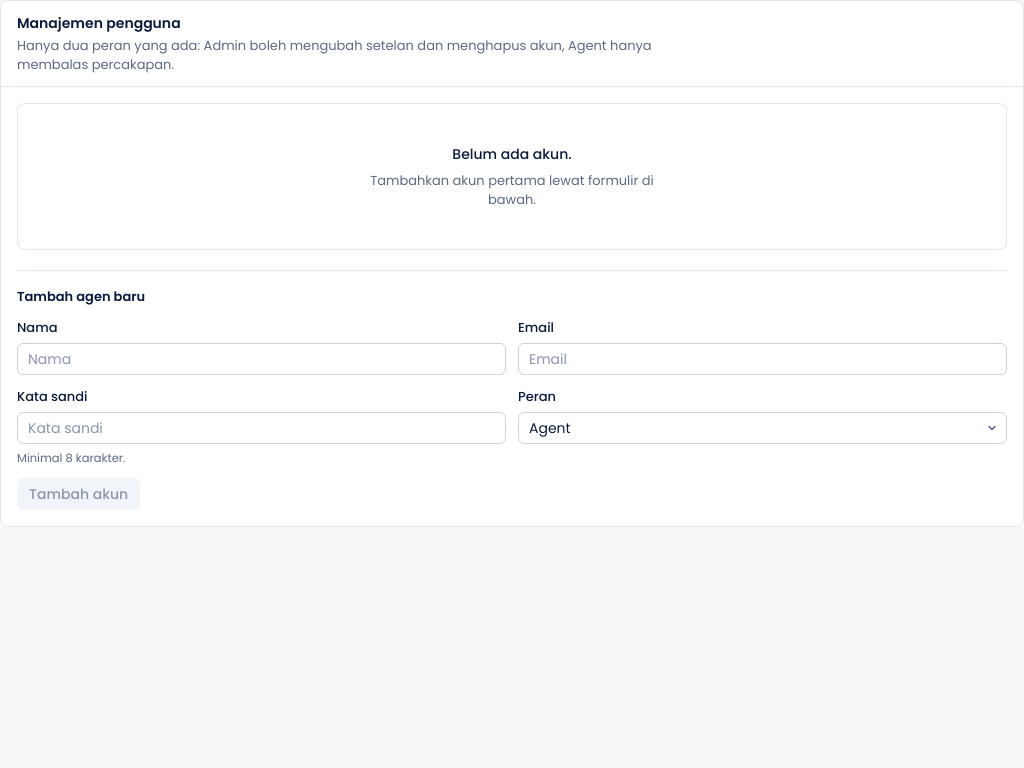
it: UserManagementSection › shows a server error and does not clear the form when creating an account fails
The width and height of the screenshot is (1024, 768).
Type "Agen Baru" into the field labelled "Nama".
click(262, 359); type("Agen Baru")  # box [17,343,506,375]
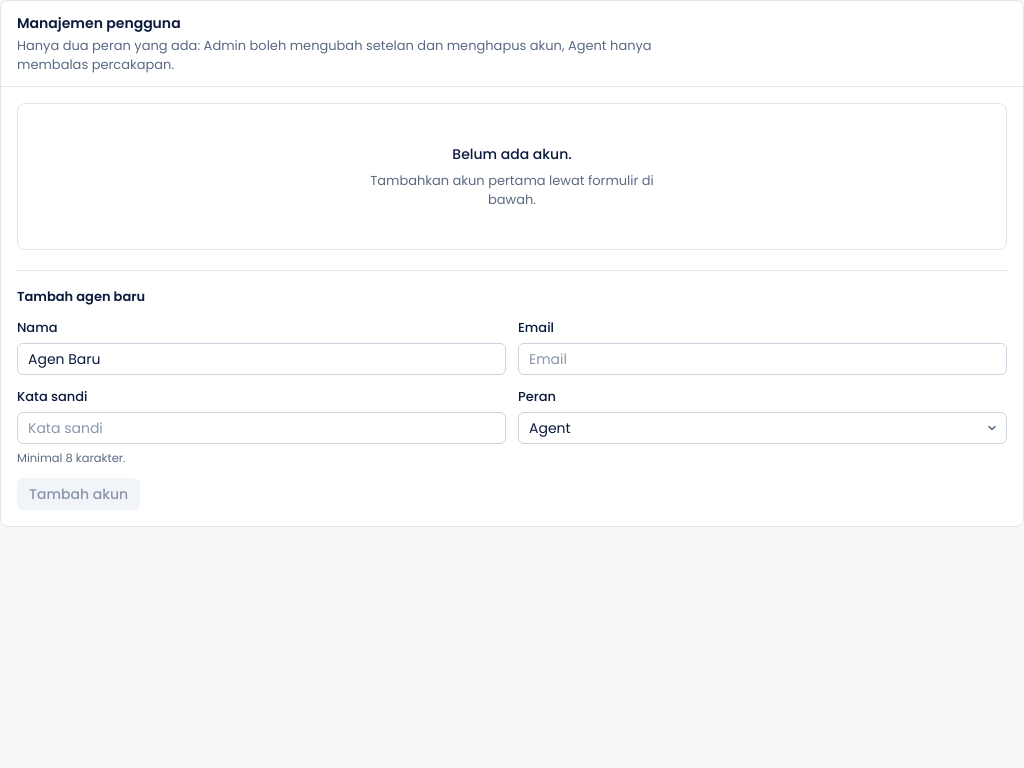
Type "agenbaru@jvto.com" into the field labelled "Email".
click(762, 359); type("agenbaru@jvto.com")  # box [518,343,1007,375]
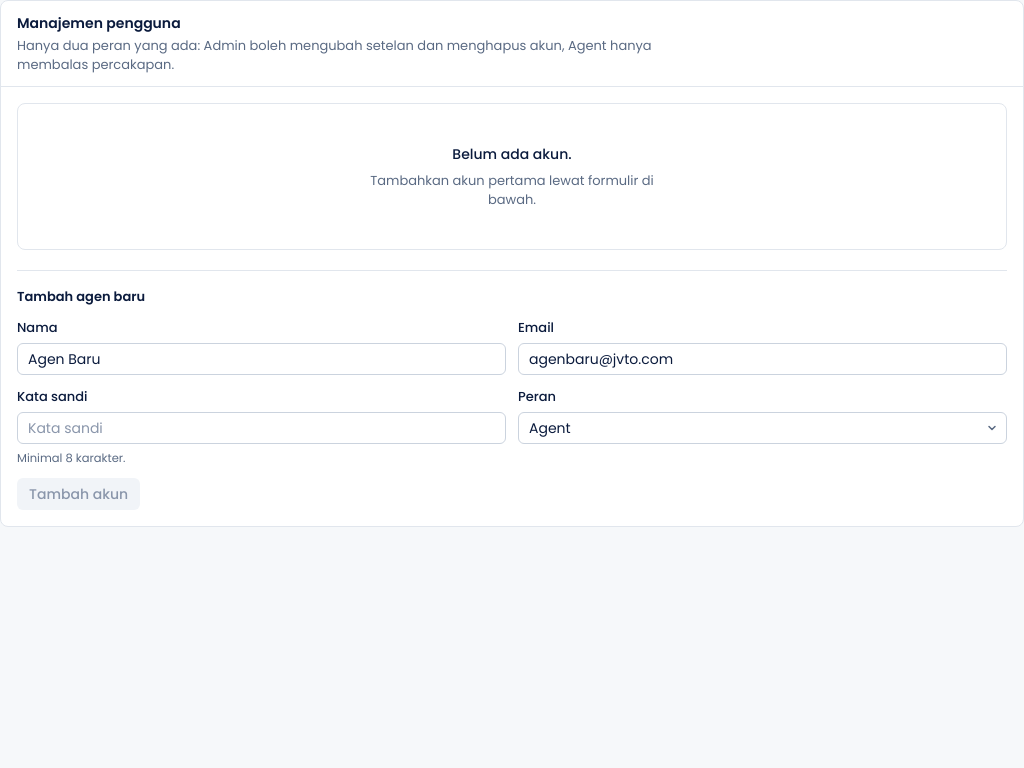
Type "Rahasia123" into the password field labelled "Kata sandi".
click(262, 428); type("Rahasia123")  # box [17,412,506,444]
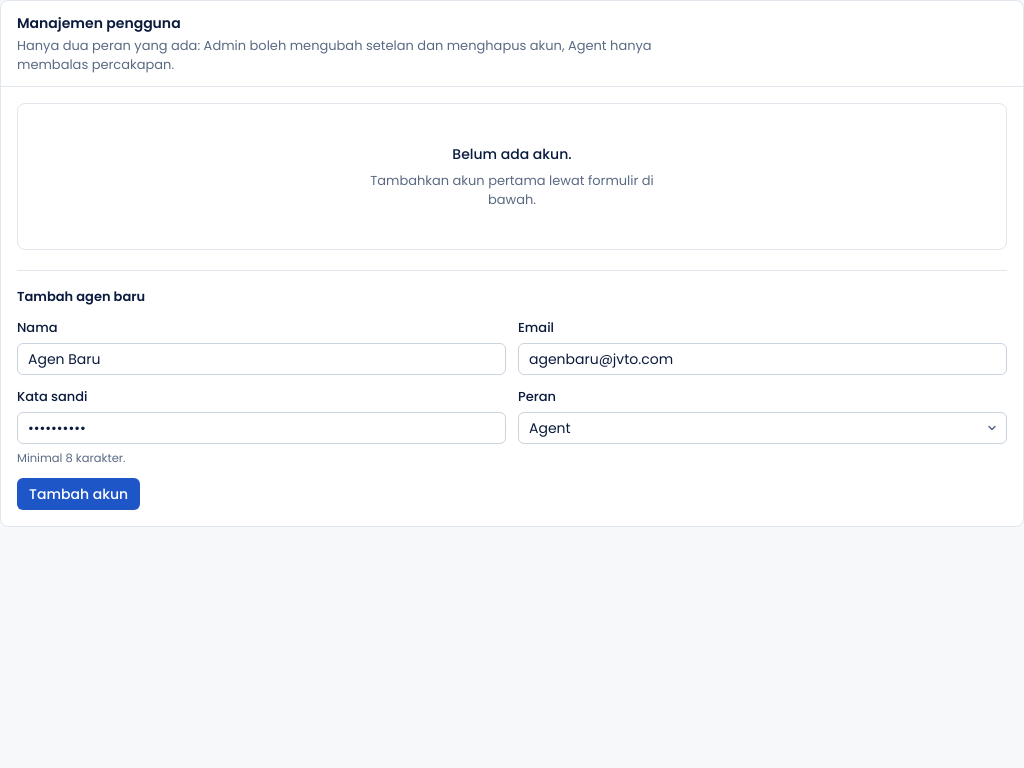
Click the button "Tambah akun".
click(79, 494)  # box [17,478,140,510]
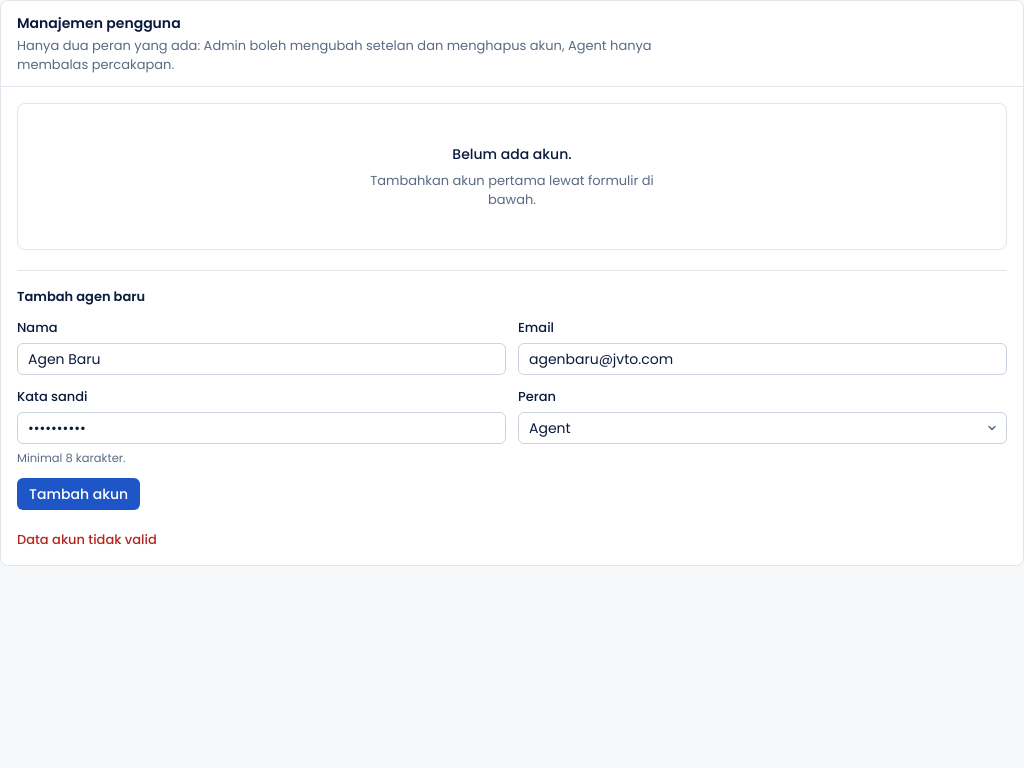
Expected: the text "Data akun tidak valid" is shown, [17,530,157,549]
